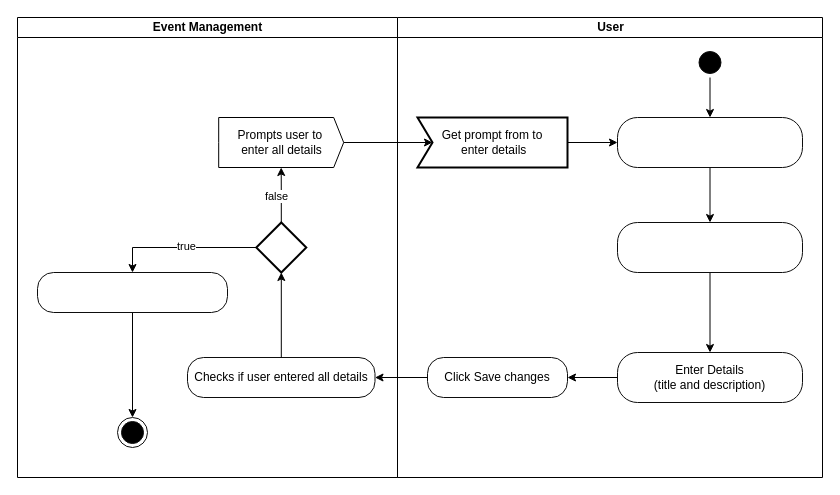
This 840x495 diagram has some shape labels left out. The shapes that lost their labels are listed below. From the top down, each one's centre as x and y in pixels, then its label:
point 709,142: Select Event
point 709,247: Click Volunteer
point 132,292: Save the volunteering details in Database
